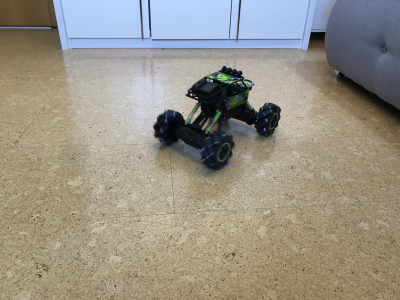remote control car: (149, 63, 283, 172)
